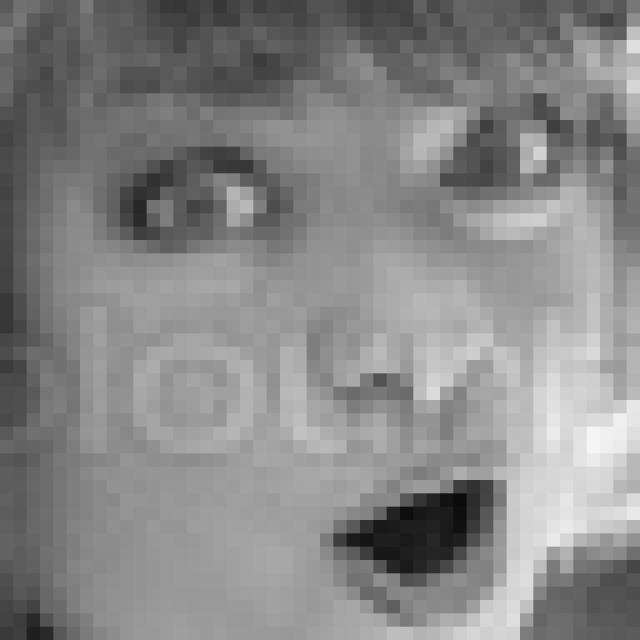surprise: (118, 56, 570, 640)
